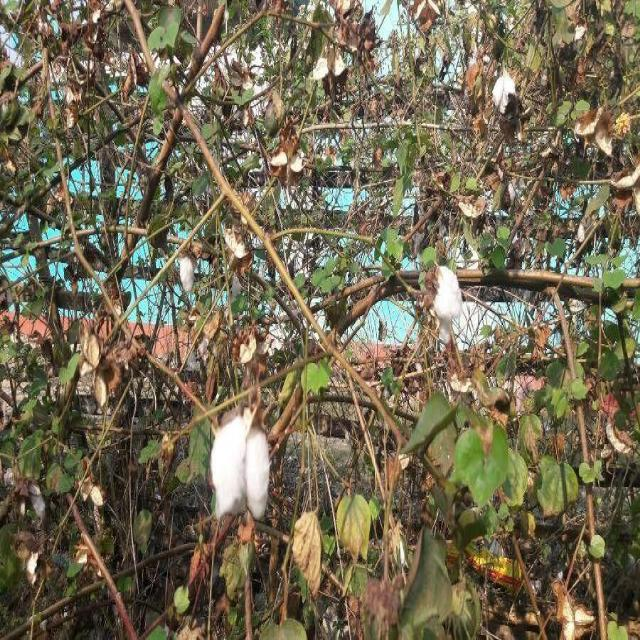Early_blight: (209, 408, 270, 526), (431, 262, 463, 343), (491, 71, 517, 122), (176, 239, 201, 292)
